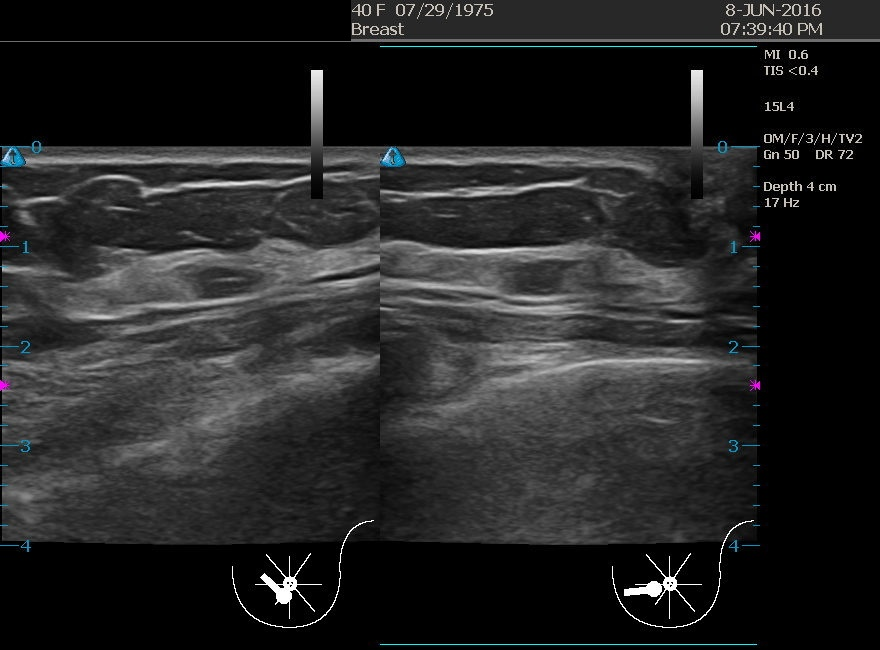BIRADS_2: (109, 151, 309, 351), (443, 193, 643, 393)
